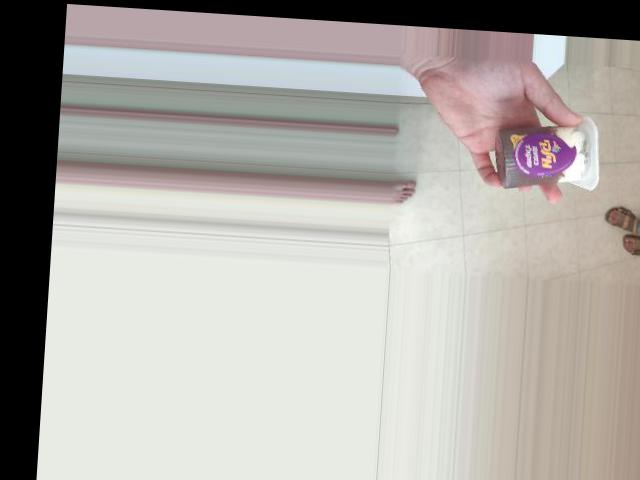milky: (477, 123, 600, 192)
